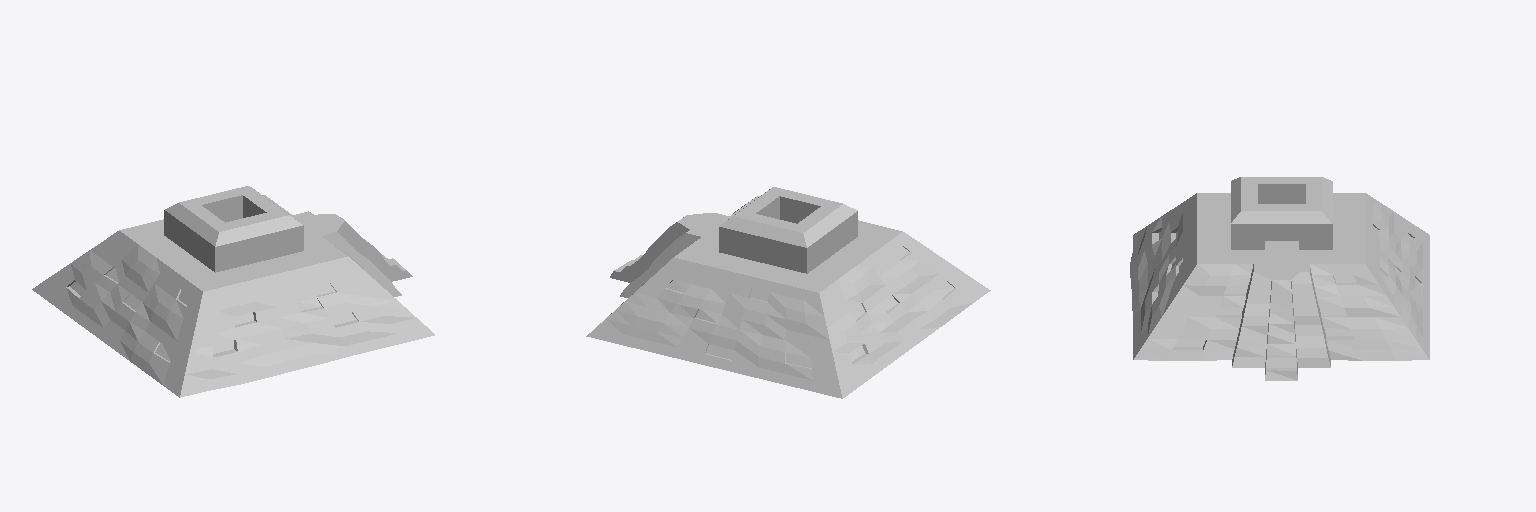
Rendered from lowpolypractice-pyramid.obj.
3 renders of one model, left to right at view 1: azimuth 30°, elevation 25°; view 2: azimuth 150°, elevation 25°; view 3: azimuth 270°, elevation 25°, orthographic.
Visible parts, largest first — view 1: pyramid; view 2: pyramid; view 3: pyramid.
Boxes of the visible parts, x1,y1,x2,y2 form: pyramid: [32, 186, 434, 397]; pyramid: [586, 187, 990, 398]; pyramid: [1130, 177, 1429, 380].
Size of the model in its own units: 63.96 by 21.16 by 55.44.